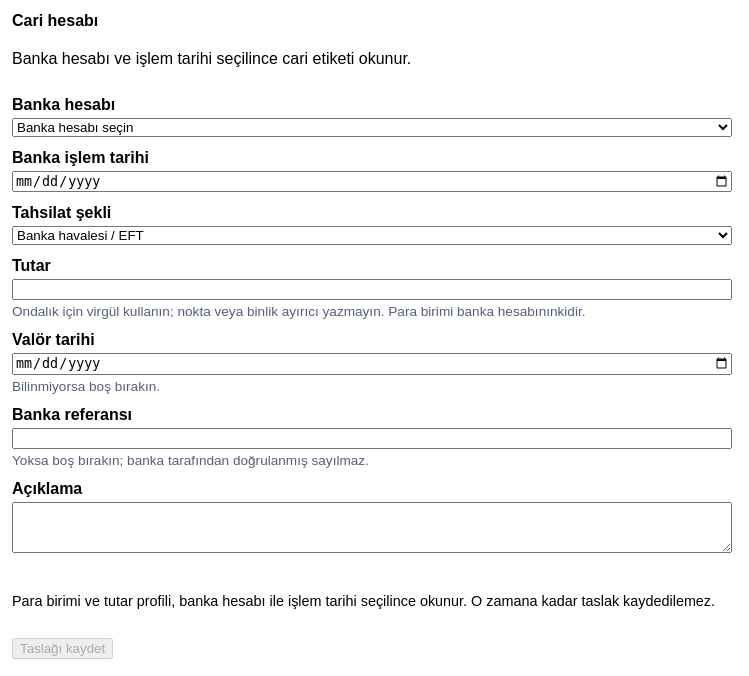
Test: ManualReceiptDraftForm — draft read context (#261) › HTTP 404 is its own closed state
The width and height of the screenshot is (749, 676).
Select "SENTETIK Banka Hesabı" in the dropdown labelled "Banka hesabı": (372, 128) x1=12 y1=118 x2=732 y2=137
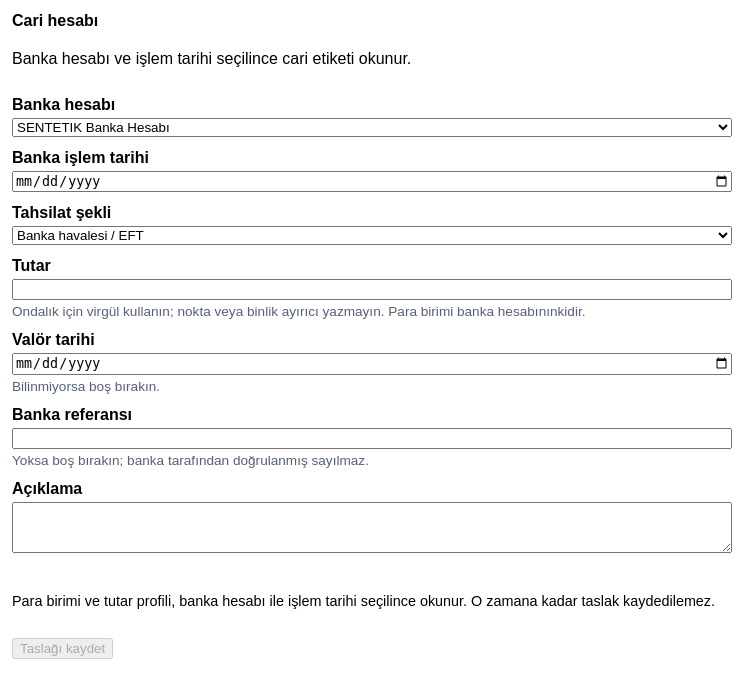
In the date field labelled "Banka işlem tarihi": (372, 182) x1=12 y1=171 x2=732 y2=192, type "2026-09-13"
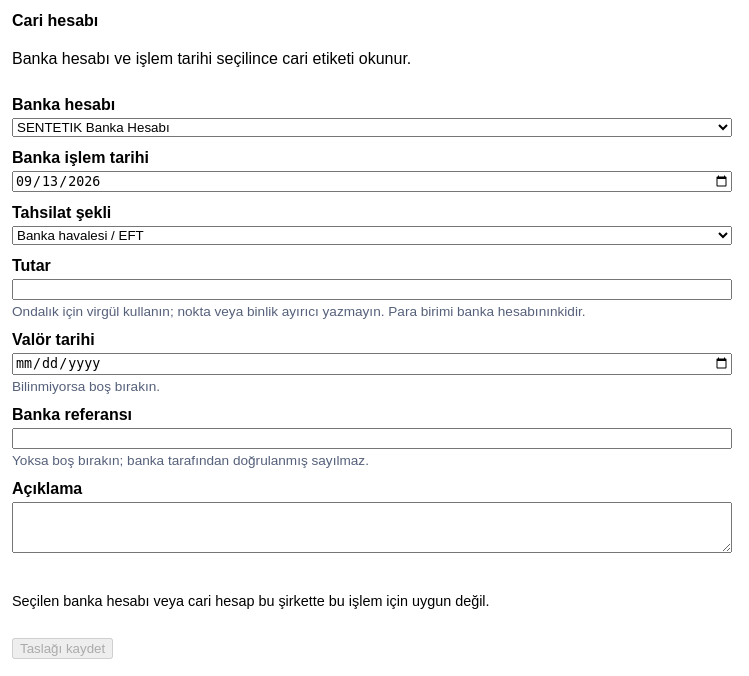
Expected: the button "Taslağı kaydet" is disabled, x1=12 y1=638 x2=113 y2=659
Expected: the text "Seçilen banka hesabı veya cari hesap bu şirkette bu işlem için uygun değil." is shown, x1=12 y1=593 x2=490 y2=609
